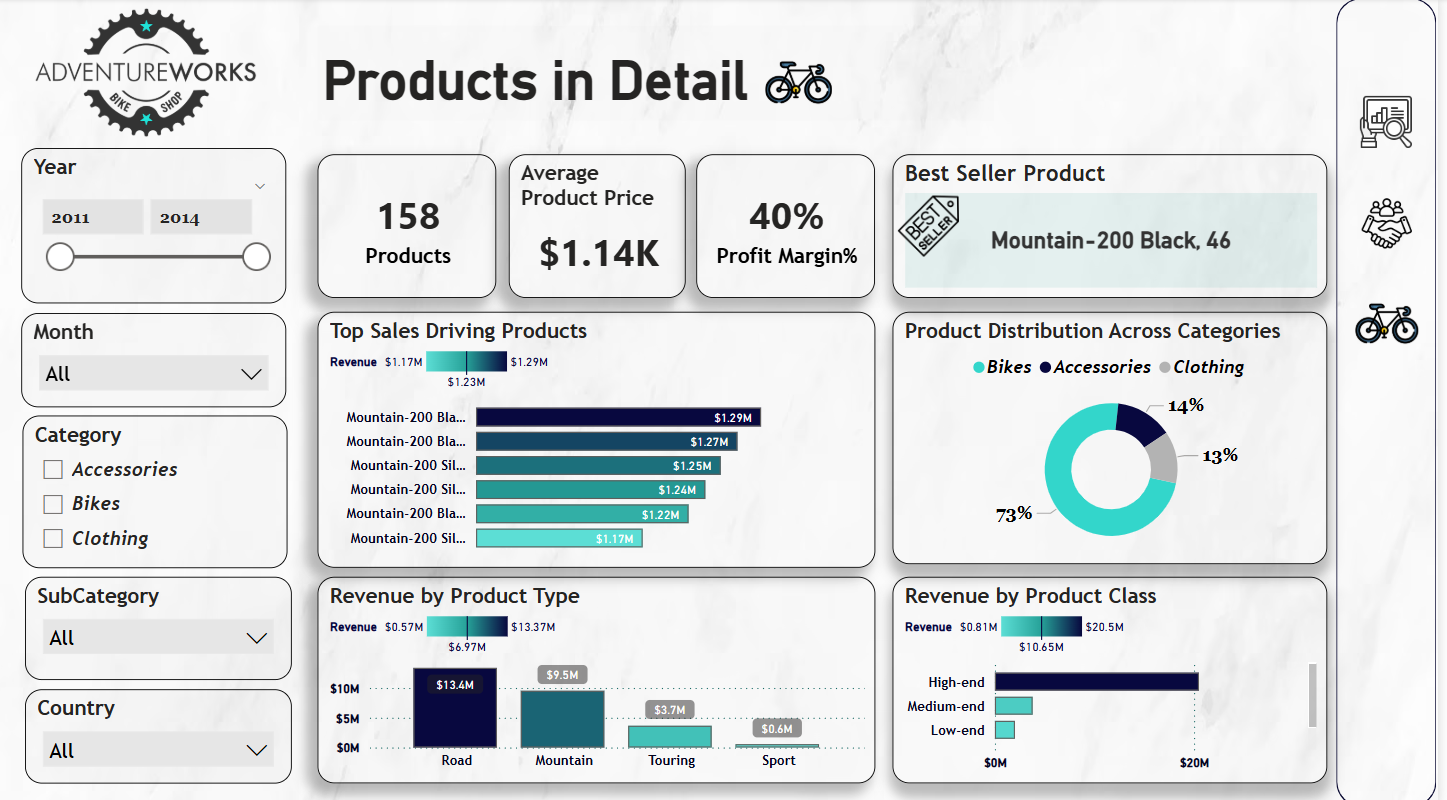

This screenshot's page, from the dashboard's own definition file:
{"tool":"powerbi","page":{"name":"Products in Detail","canvas":[1280,720],"ordinal":2},"visuals":[{"type":"shape","box":[1189.7,0,89.2,720.4],"z":0},{"type":"donutChart","title":"Product Distribution Across Categories","fields":{"Category":["DimProductCategory.Category Name"],"Y":["CountNonNull(DimProduct.ProductKey)"]},"box":[794.5,279.9,387,225],"z":1000},{"type":"image","box":[5.5,0,249.5,133.3],"z":2000},{"type":"clusteredBarChart","title":"Top Sales Driving Products","fields":{"Category":["DimProduct.ProductName"],"Y":["_Measures.Revenue"]},"box":[282.7,279.9,496.7,227.8],"z":3000},{"type":"textbox","box":[282.7,24.7,602.4,85.1],"z":4000},{"type":"slicer","title":"Year","fields":{"Values":["DimDate.Date Hierarchy.Year"]},"box":[19.2,133.1,236,138.6],"z":5000},{"type":"slicer","title":"Category","fields":{"Values":["DimProductCategory.Category Name"]},"box":[20.4,372.2,235.7,135.8],"z":6000},{"type":"card","title":"To","fields":{"Values":["CountNonNull(DimProduct.ProductKey)"]},"box":[282.7,138.6,159.2,127.6],"z":7000},{"type":"slicer","title":"Country","fields":{"Values":["DimSalesTerritory.SalesTerritoryCountry"]},"box":[22,616.1,237.4,83.7],"z":8000},{"type":"slicer","title":"Month","fields":{"Values":["DimDate.Date Hierarchy.MonthName"]},"box":[19.2,280.1,236,83.7],"z":9000},{"type":"slicer","title":"SubCategory","fields":{"Values":["DimProductSubcategory.SubCategory Name"]},"box":[22,516,237.4,91.9],"z":10000},{"type":"card","title":"Average Product Price","fields":{"Values":["_Measures.Avg. Product Price"]},"box":[452.8,138.6,157.8,127.6],"z":11000},{"type":"advanceCardE03760C5AB684758B56AA29F9E6C257B","title":"Best Seller Product","fields":{"mainMeasure":["Min(DimProduct.ProductName)"],"tooltipMeasures":["_Measures.Revenue"]},"box":[794.5,138.6,387,127.6],"z":12000},{"type":"columnChart","title":"Revenue by Product Type","fields":{"Category":["DimProduct.ProductType"],"Y":["_Measures.Revenue"]},"box":[282.7,516,496.7,183.9],"z":13000},{"type":"clusteredBarChart","fields":{"Category":["DimProduct.Product Class"],"Y":["_Measures.Revenue"]},"box":[794.5,516,387,183.9],"z":14000},{"type":"card","fields":{"Values":["_Measures.ProfitMargin%"]},"box":[620.2,138.6,159.2,127.6],"z":15000},{"type":"image","box":[794.5,170.2,64.5,65.9],"z":16000},{"type":"image","box":[1207.6,170.2,54.9,60.4],"z":17000},{"type":"image","box":[1202.1,82.3,64.5,56.3],"z":18000},{"type":"image","box":[1202.1,256.6,65.9,65.9],"z":19000},{"type":"image","box":[676.5,39.8,68.6,70],"z":20000}]}

Visuals, with their boxes in screenshot pixels (x1, y1, x2, y2), scaled from the page's 1280x720 canvas onto the 1447x800 screenshot:
shape: 1345:0:1446:799
"Product Distribution Across Categories" donutChart: 898:311:1336:561
image: 6:0:288:148
"Top Sales Driving Products" clusteredBarChart: 320:311:881:564
textbox: 320:27:1001:122
"Year" slicer: 22:148:288:302
"Category" slicer: 23:414:290:564
"To" card: 320:154:500:296
"Country" slicer: 25:685:293:778
"Month" slicer: 22:311:288:404
"SubCategory" slicer: 25:573:293:675
"Average Product Price" card: 512:154:690:296
"Best Seller Product" advanceCardE03760C5AB684758B56AA29F9E6C257B: 898:154:1336:296
"Revenue by Product Type" columnChart: 320:573:881:778
clusteredBarChart - DimProduct.Product Class x _Measures.Revenue: 898:573:1336:778
card - _Measures.ProfitMargin%: 701:154:881:296
image: 898:189:971:262
image: 1365:189:1427:256
image: 1359:91:1432:154
image: 1359:285:1433:358
image: 765:44:842:122
